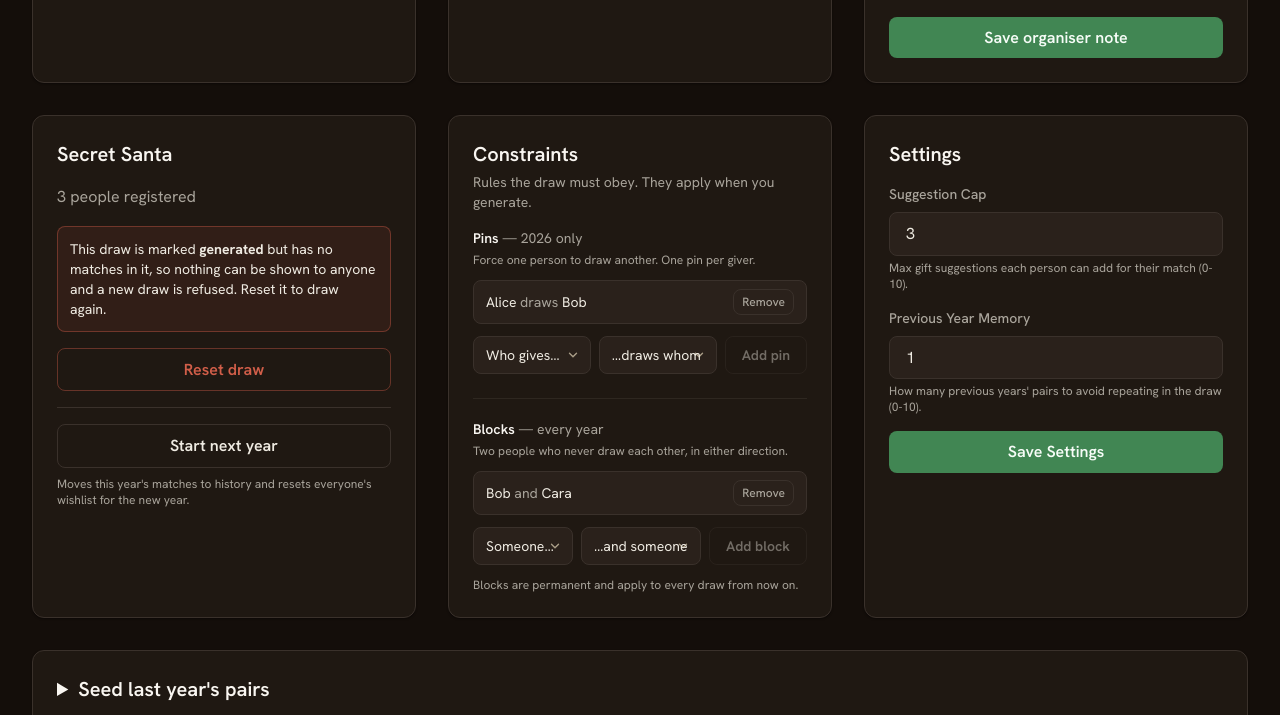
AdminDashboard: constraints panel › shows the API's refusal when the generated draw contradicts the new pin
(page scrolled)
Select "Cara" in the dropdown named "Pin giver" at [532, 355], box [473,336,591,374]
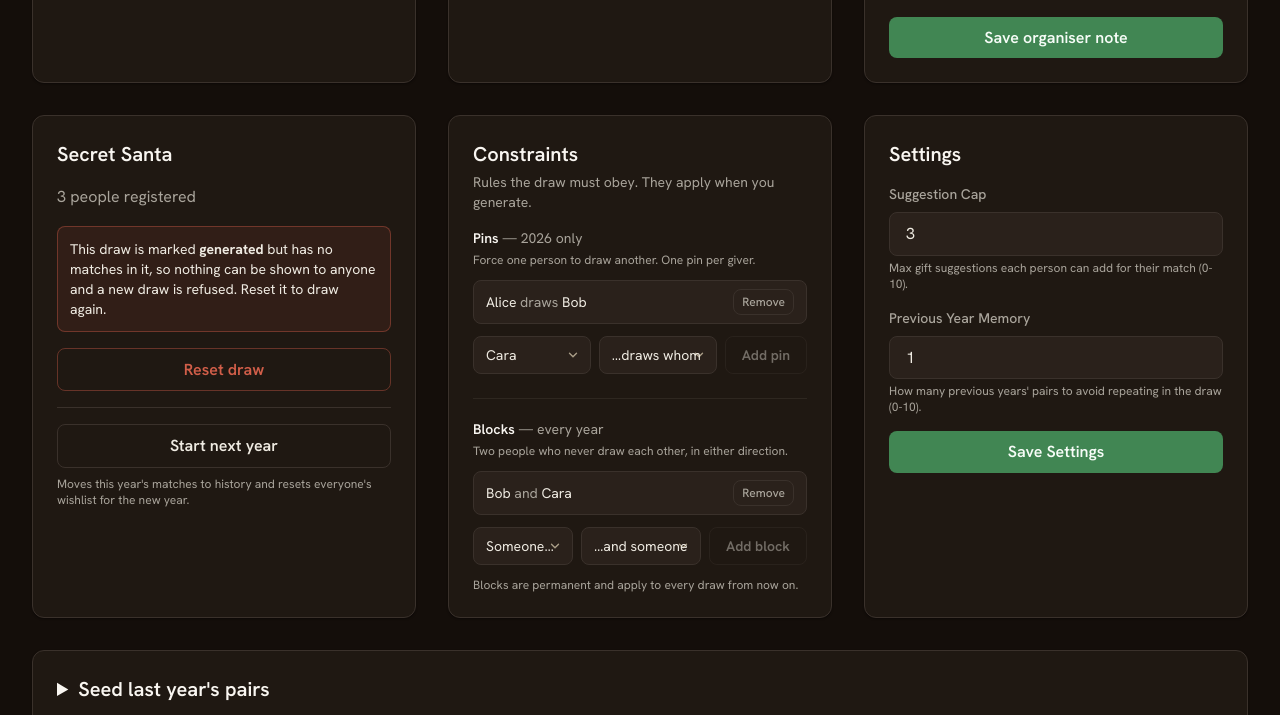
Select "Alice" in the dropdown named "Pin receiver" at [658, 355], box [599,336,717,374]
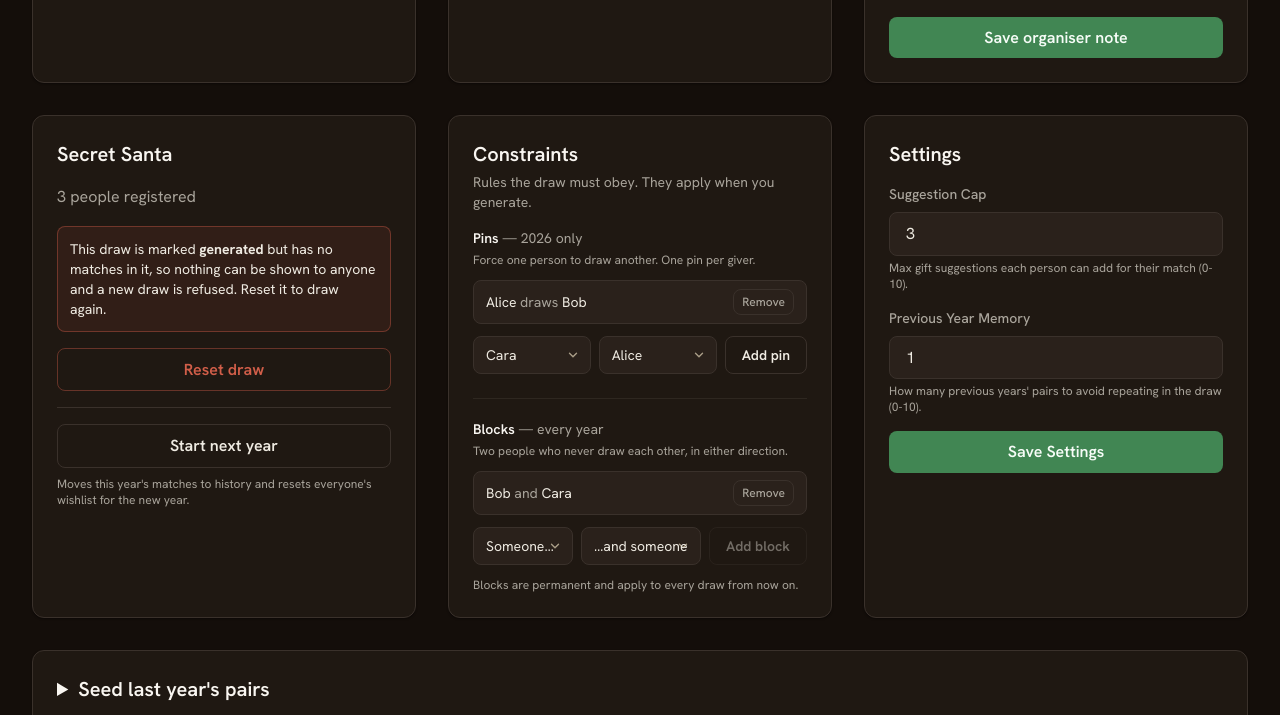
Click the button "Add pin" at [766, 355], box [725,336,807,374]
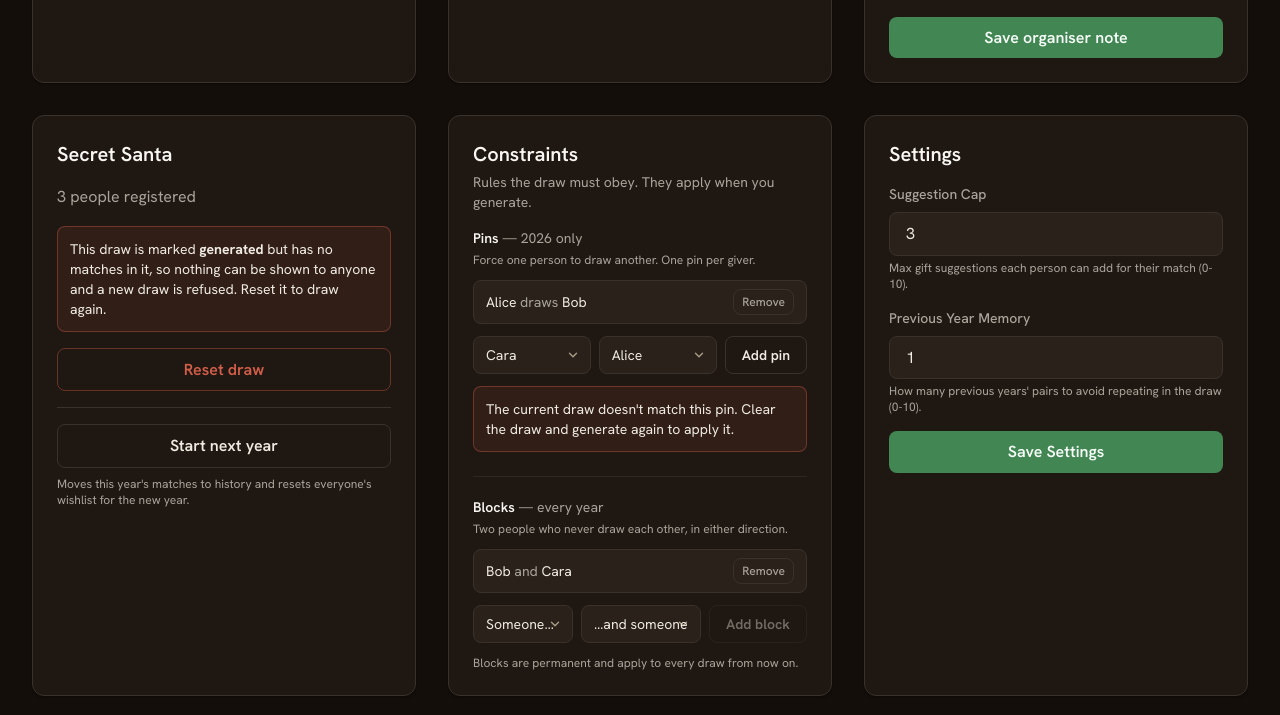
Result: the text "Clear the draw and generate again" is shown at [486,400,776,438]
